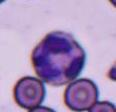N: (31, 30, 86, 84)
